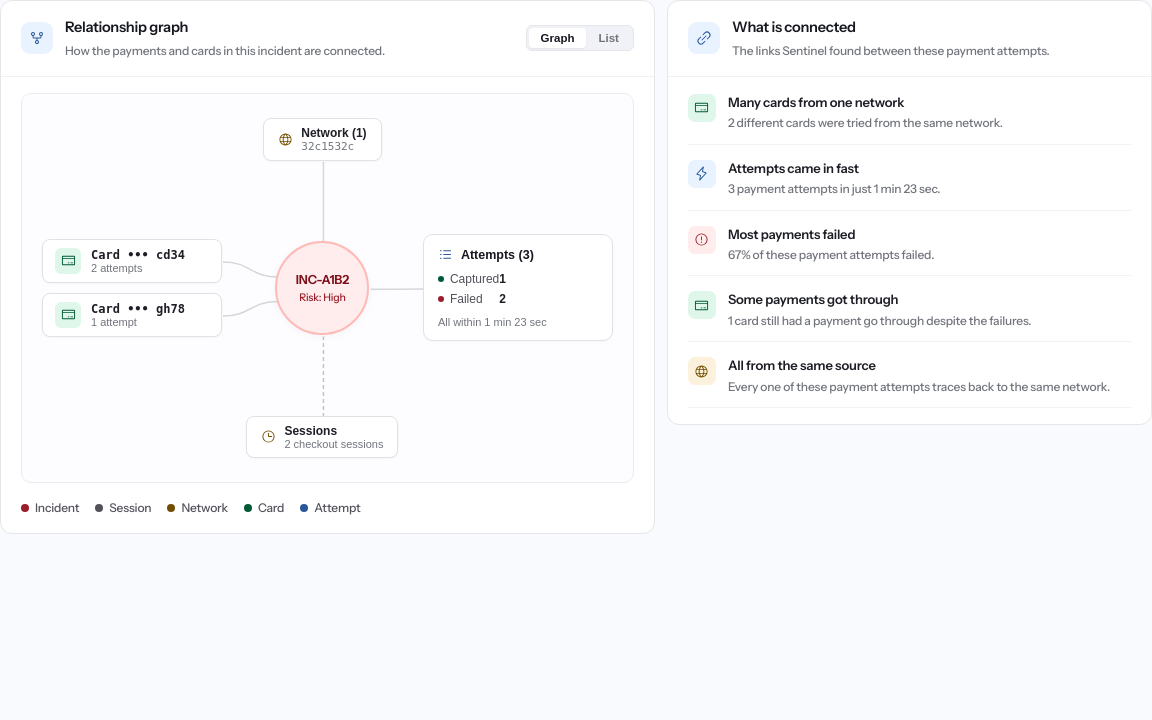
Test: RelationshipsTab › opens a detail popover from the entity node with only backend fields
Click the button "Network (1) 32c1532c". click: (322, 139)
box: [263,118,382,161]
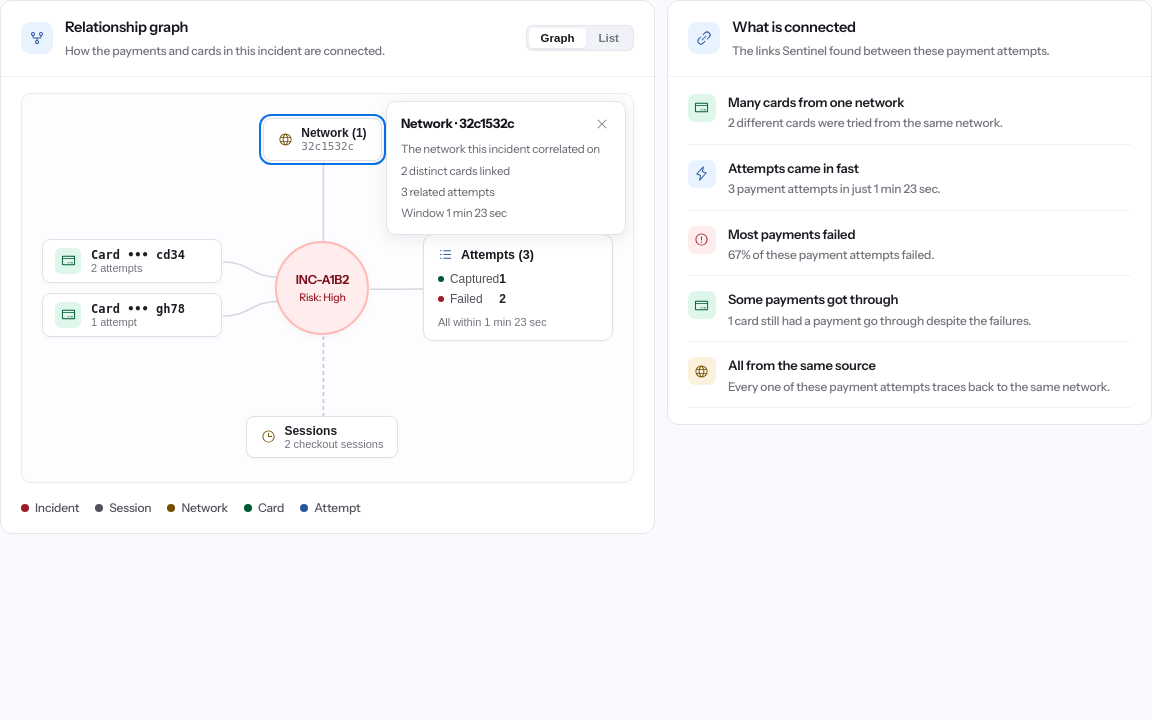
expect the list item "The network this incident correlated on" is shown: met, box [401,141,611,159]
